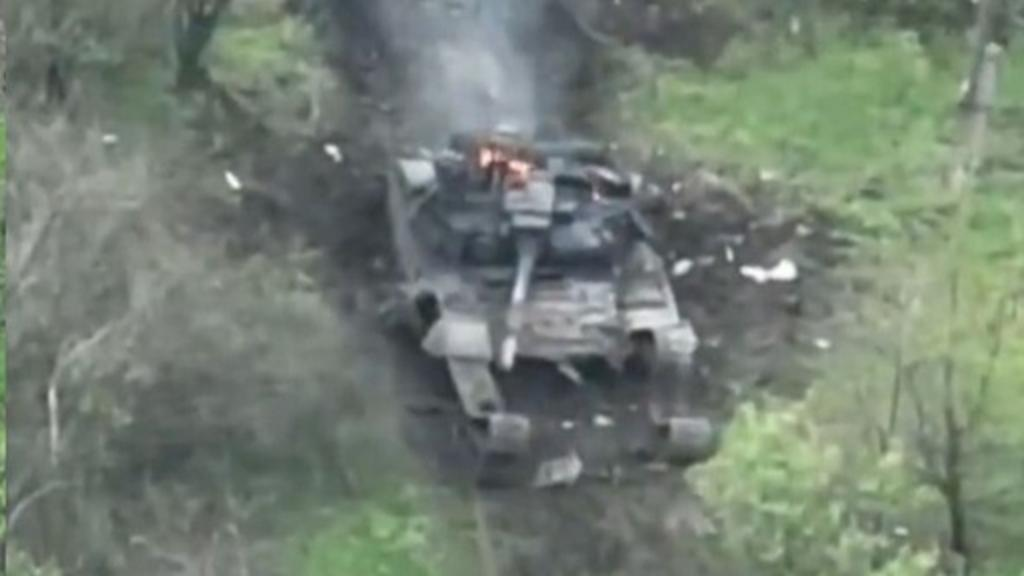TANK: (362, 120, 710, 460)
